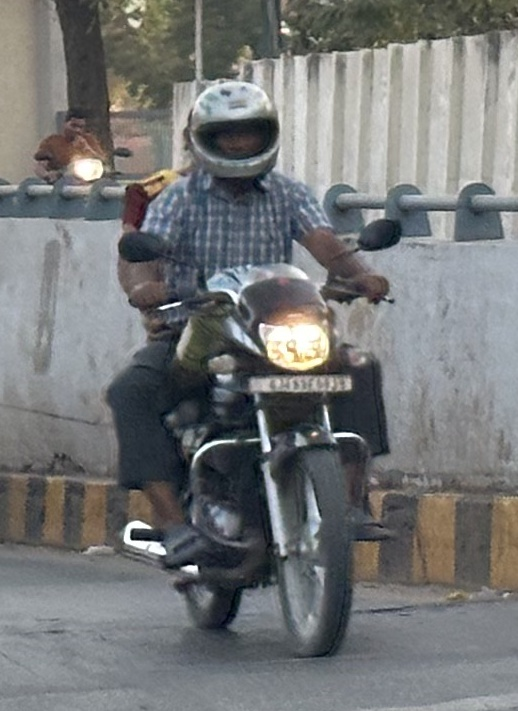BikeWithRider: (90, 73, 414, 664)
Helmet: (173, 73, 293, 186)
